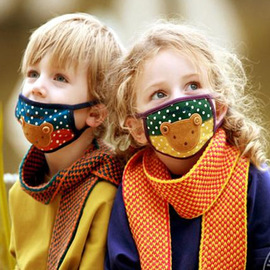face_mask: (135, 51, 214, 148), (19, 45, 91, 146)
